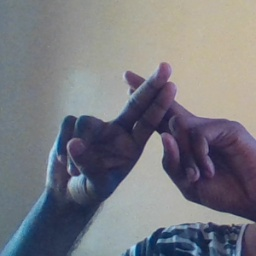F: (88, 55, 222, 179)
